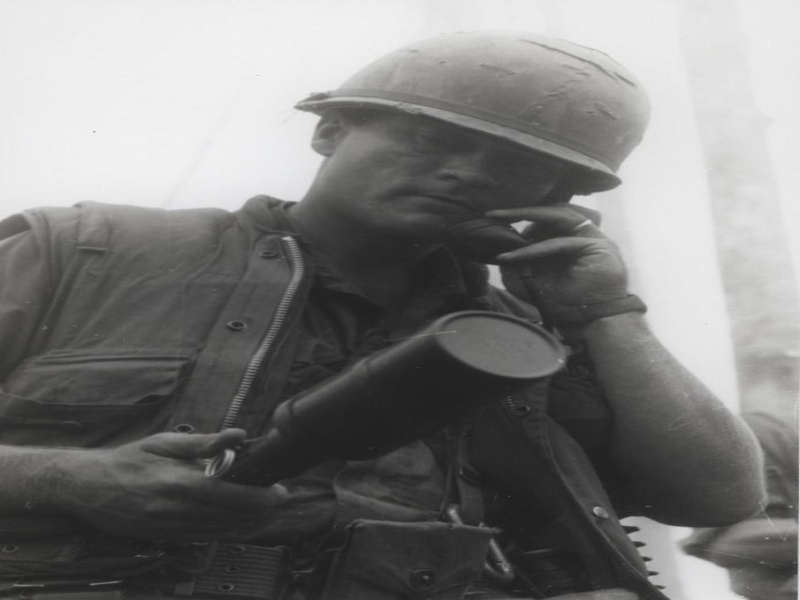Baret: (295, 26, 654, 187)
